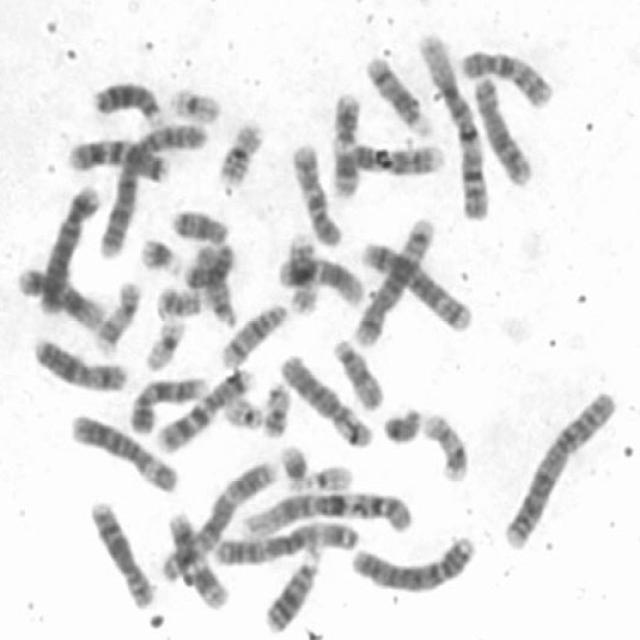A1: (415, 28, 492, 222), (240, 488, 414, 545)
A2: (502, 387, 618, 551), (96, 118, 209, 261)
A3: (159, 457, 286, 585), (211, 519, 360, 569)
B4: (37, 183, 102, 317), (348, 532, 476, 597)
B5: (353, 215, 438, 350), (359, 238, 474, 332)
C10: (461, 47, 556, 113), (291, 141, 347, 252)
C11: (165, 509, 231, 612), (330, 91, 363, 199)
C12: (14, 264, 108, 334), (274, 254, 367, 312)
C6: (278, 351, 376, 450), (70, 412, 180, 496)
C7: (156, 369, 252, 457), (69, 137, 170, 186)
C8: (86, 499, 157, 612), (472, 74, 534, 188)
C9: (128, 374, 213, 436), (351, 140, 446, 179)
D13: (261, 543, 325, 633), (92, 79, 165, 129)
D14: (364, 54, 436, 138), (220, 304, 288, 370)
D15: (331, 335, 386, 413), (195, 242, 240, 331)
E16: (214, 115, 266, 193), (284, 232, 323, 318)
E17: (420, 412, 469, 486), (96, 278, 141, 355)
E18: (169, 207, 232, 249), (182, 245, 236, 290)
F19: (144, 316, 186, 374), (165, 85, 224, 122)
F20: (156, 282, 210, 320), (260, 382, 293, 440)
G21: (139, 235, 184, 280), (278, 442, 308, 488)
G22: (288, 462, 353, 493), (220, 390, 262, 433)
X: (34, 335, 130, 395)
Y: (380, 406, 420, 445)
